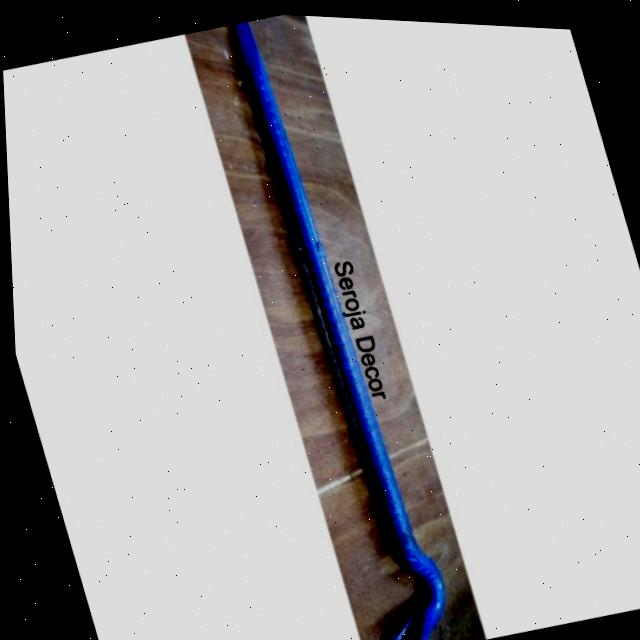crow bar: (219, 15, 452, 640)
